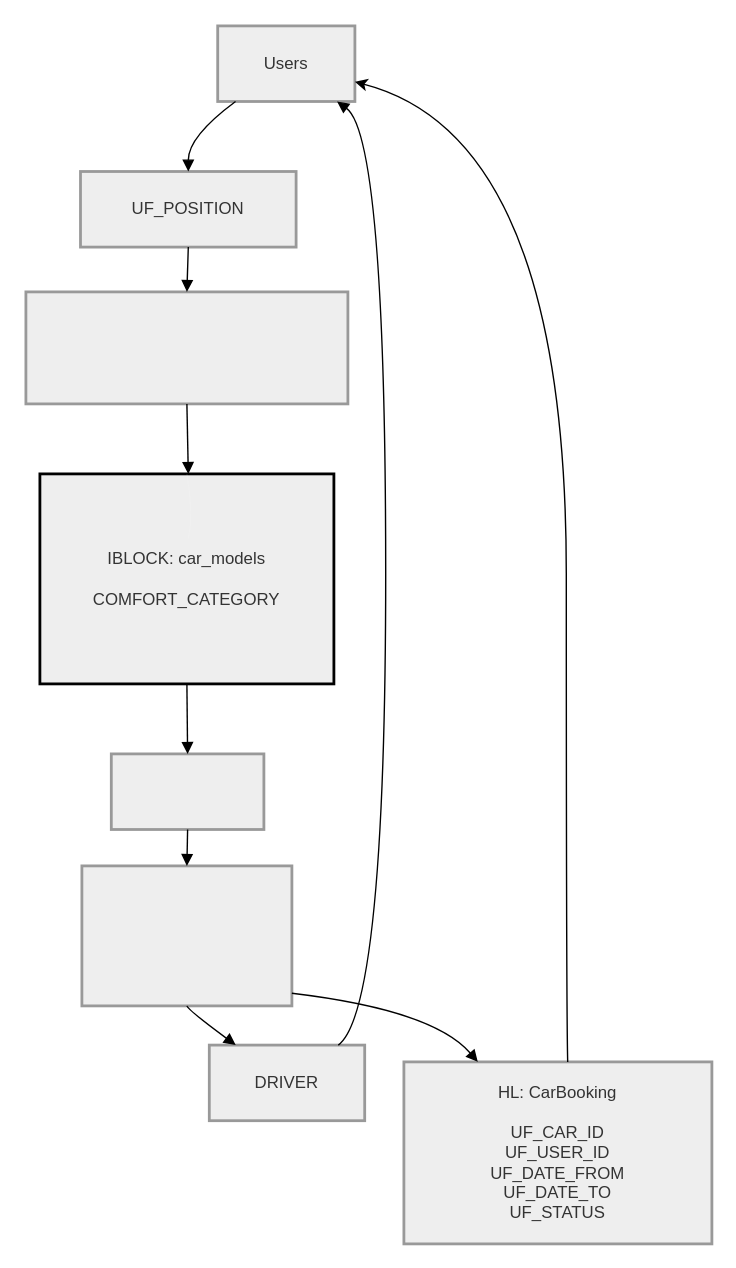
Image size: 736x1268. Some labels were removed from this diagram. The shapes that lost their labels are listed below. From the top down, each one's centre as x and y in pixels, then its label:
the point at 186,347: HL: PositionComfort UF_POSITION UF_COMFORT_CATEGORY_ID
the point at 187,791: MODEL
the point at 186,935: IBLOCK: cars MODEL DRIVER NUMBER
